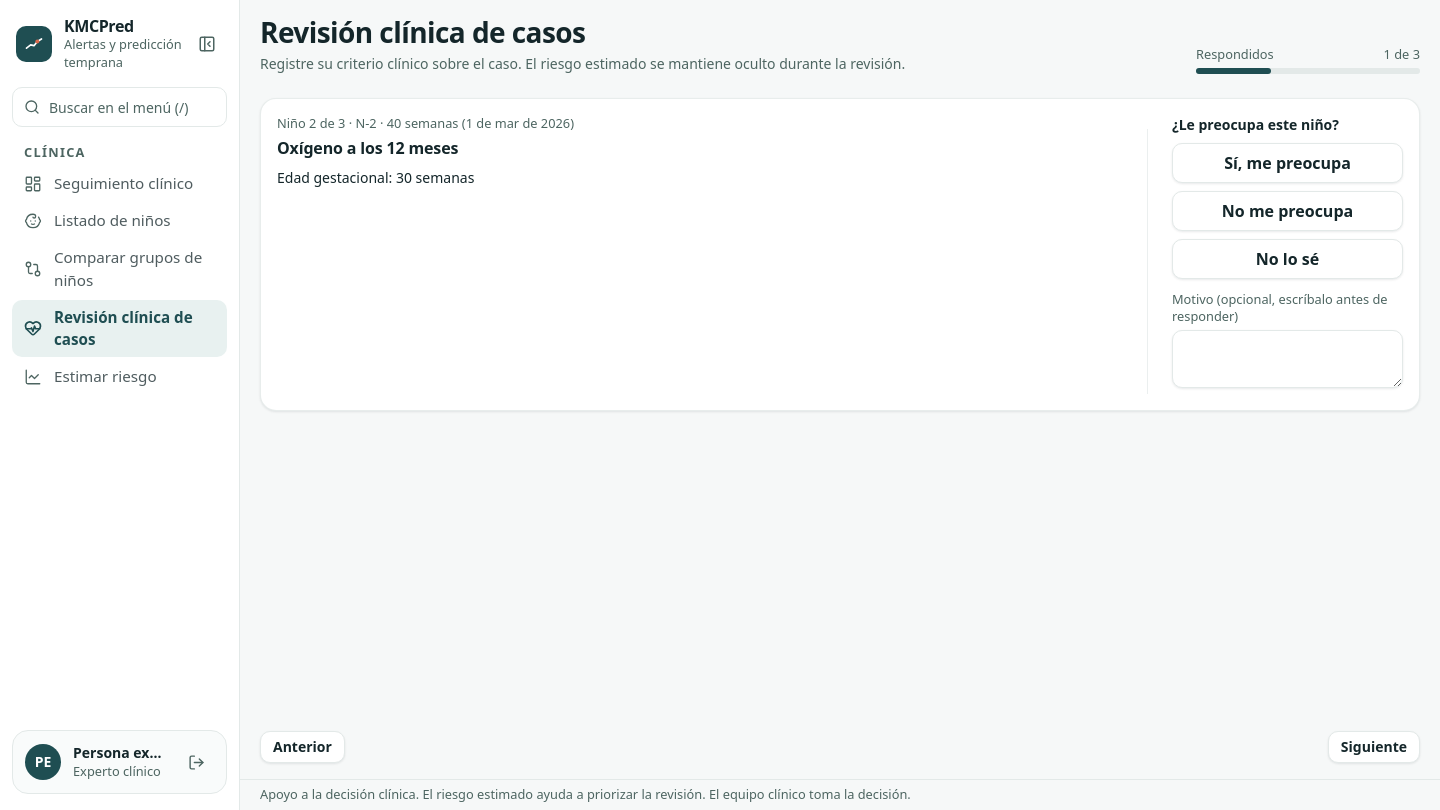
Test case: Revisión de riesgos simplificada › empieza en el primer niño sin responder y deja volver atrás
The image size is (1440, 810).
Expected: the text "Niño 2 de 3 · N-2 · 40 semanas (1 de mar de 2026)" is shown, [277,115,574,132]
Click the button "Anterior" at (302, 747), box [260,731,345,763]
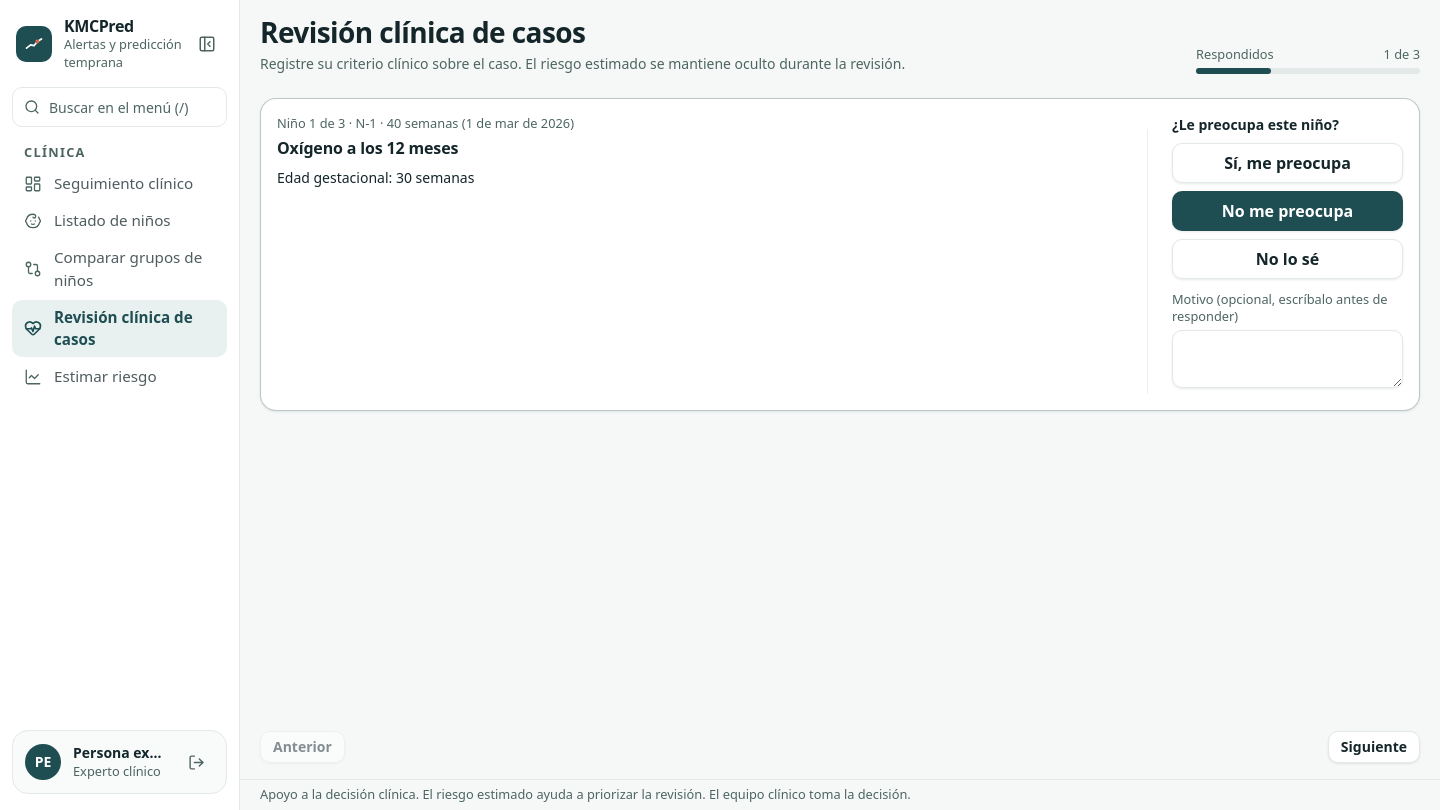
Result: the text "Niño 1 de 3 · N-1 · 40 semanas (1 de mar de 2026)" is shown at [277,115,574,132]
